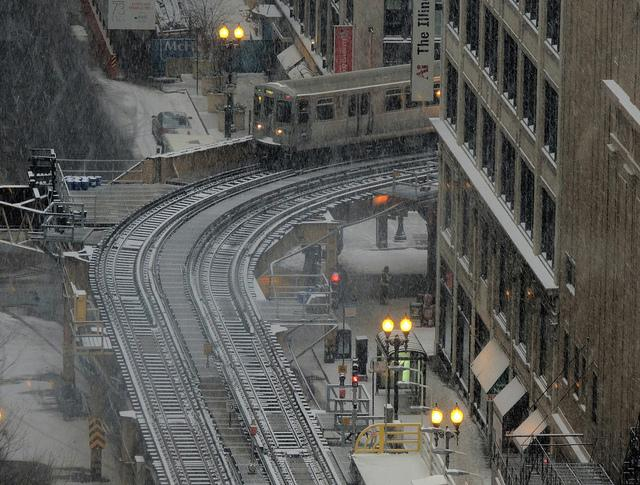Train: (250, 60, 442, 173)
